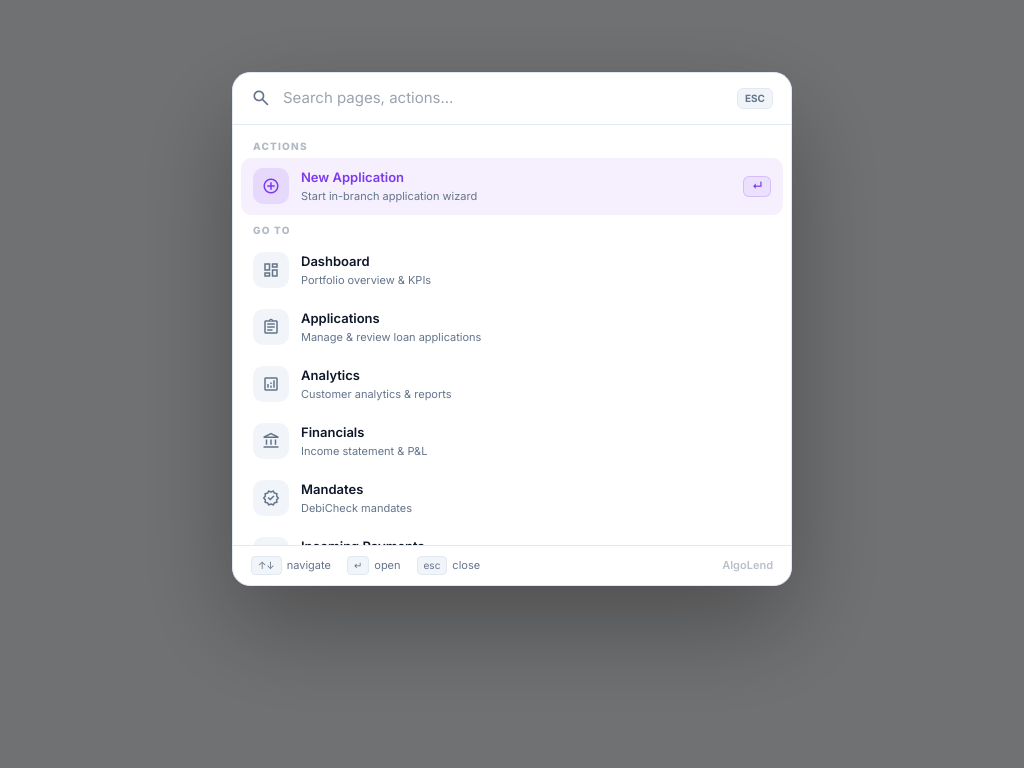
Test: CommandPalette › filters results by label
Type "cash" into the field with placeholder "Search pages, actions…".
click(504, 98); type("cash")  # box [283,87,725,110]
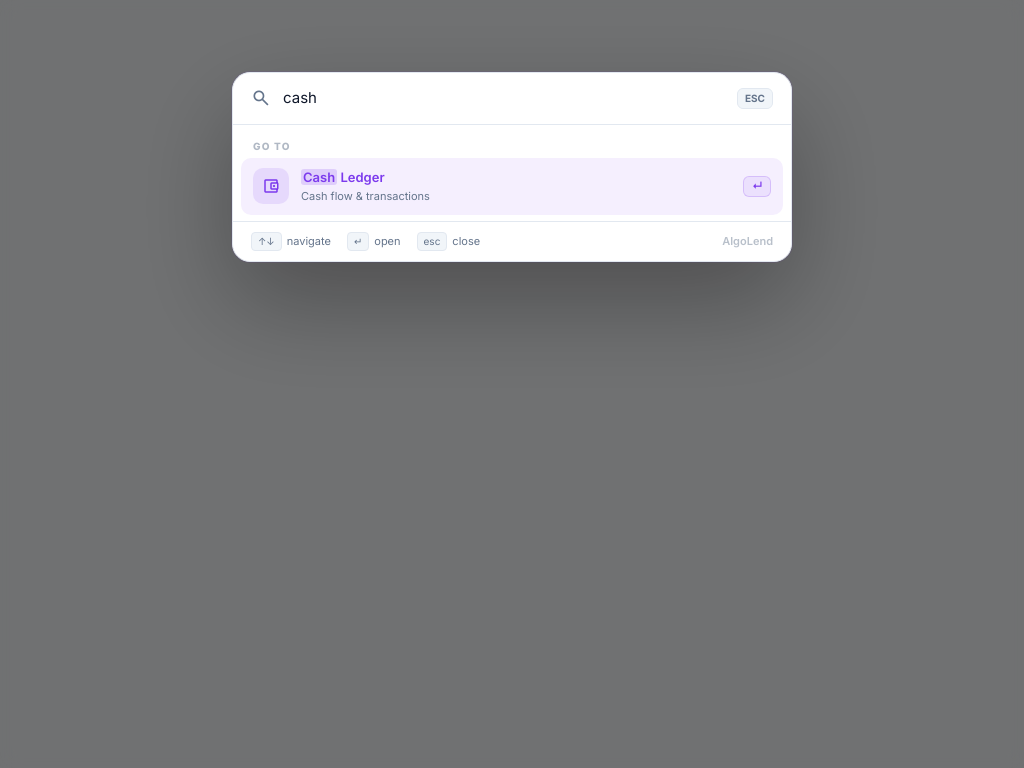
Expected: the text "Cash flow & transactions" is shown, [301,189,430,203]
Expected: the text "Dashboard" is gone
